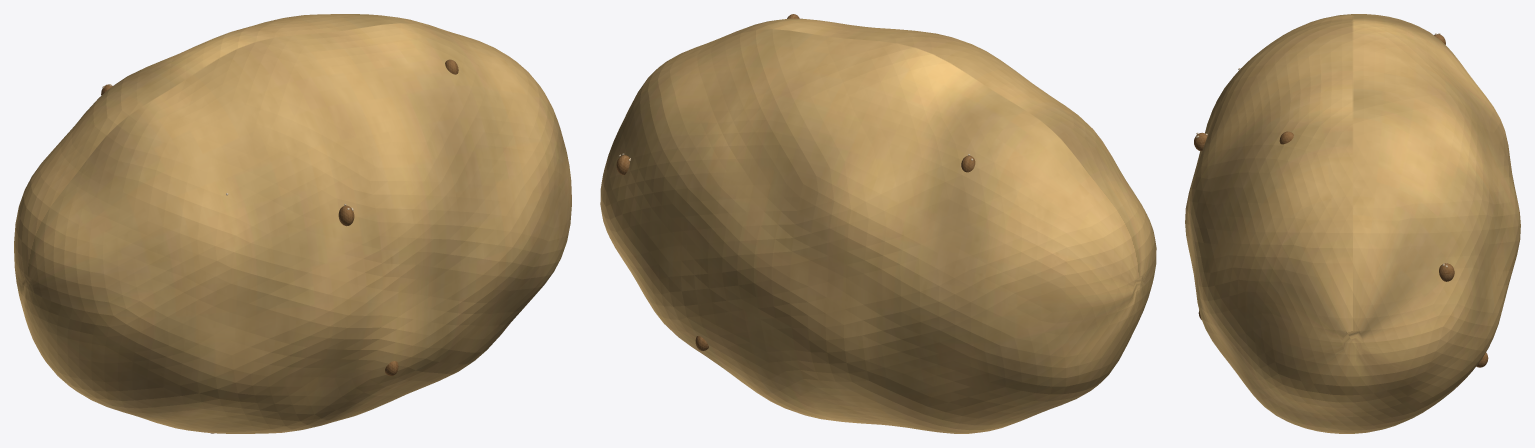
The model's file is potato-cartoon2.glb.
3 renders of one model, left to right at view 1: azimuth 30°, elevation 25°; view 2: azimuth 150°, elevation 25°; view 3: azimuth 270°, elevation 25°, orthographic. The views are drawn at different scales.
Bounding box in the file's own units: 2.45 × 1.69 × 1.46.
3 materials, 2 textured.
